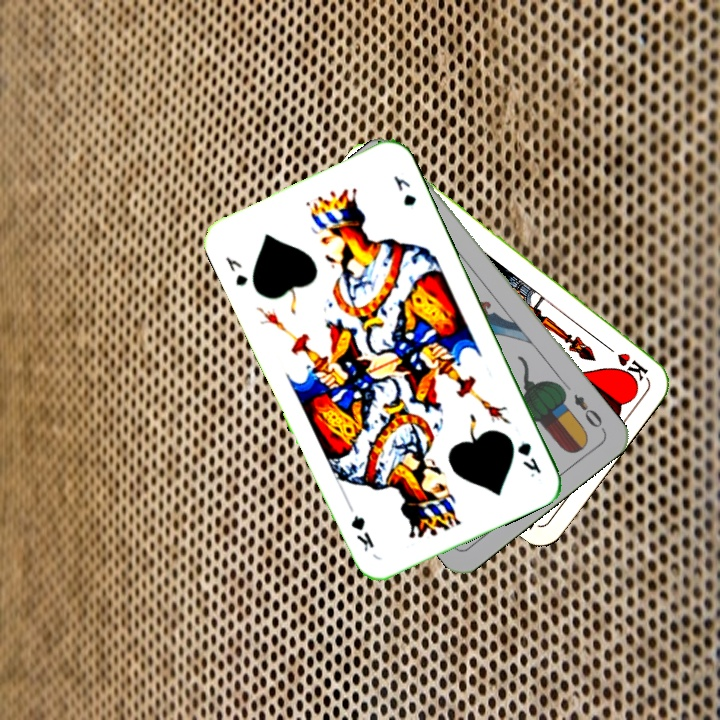EO: (569, 390, 605, 431)
GK: (513, 438, 544, 480), (221, 252, 251, 289)
HK: (598, 338, 651, 384)
